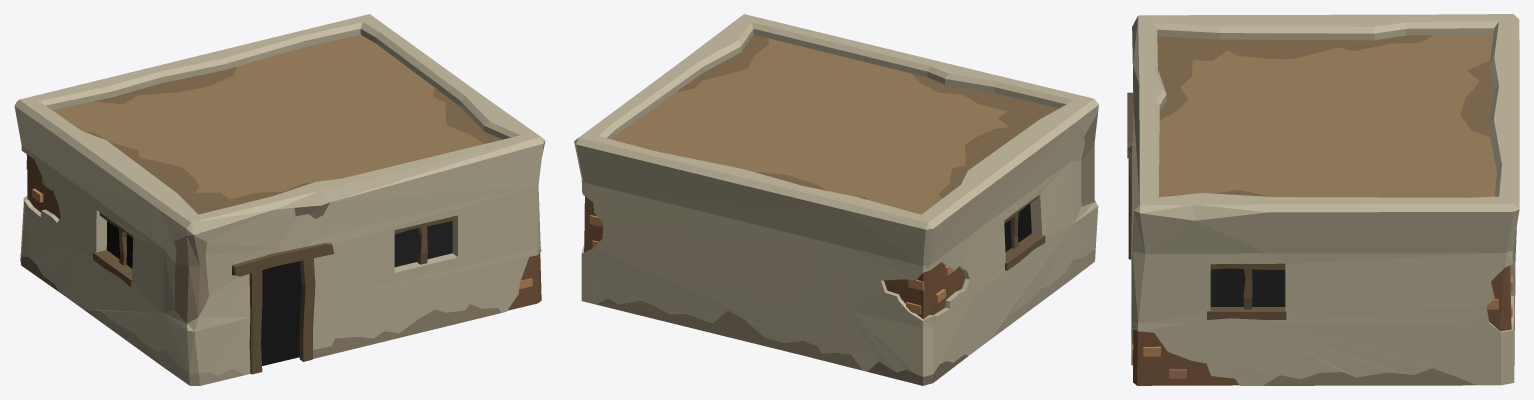
File: Hut.glb
3 views of the same model, side by side, from view 1: azimuth 30°, elevation 25°; view 2: azimuth 150°, elevation 25°; view 3: azimuth 270°, elevation 25° (orthographic). The views are drawn at different scales.
Visible parts, largest first — view 1: Hut; view 2: Hut; view 3: Hut.
Boxes of the visible parts, <box> form: Hut: <box>14,14,545,385</box>; Hut: <box>574,14,1098,385</box>; Hut: <box>1127,14,1519,385</box>.
Size of the model in its own units: 234 by 101 by 198.
1 material, 1 textured.
